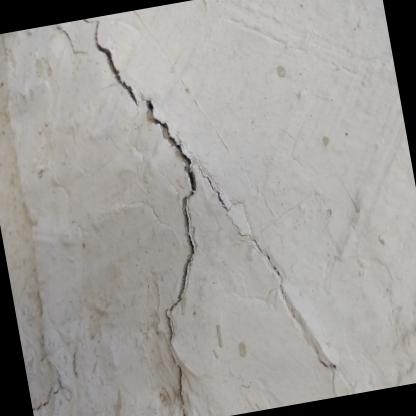crack: (146, 101, 197, 416), (92, 23, 137, 101)
